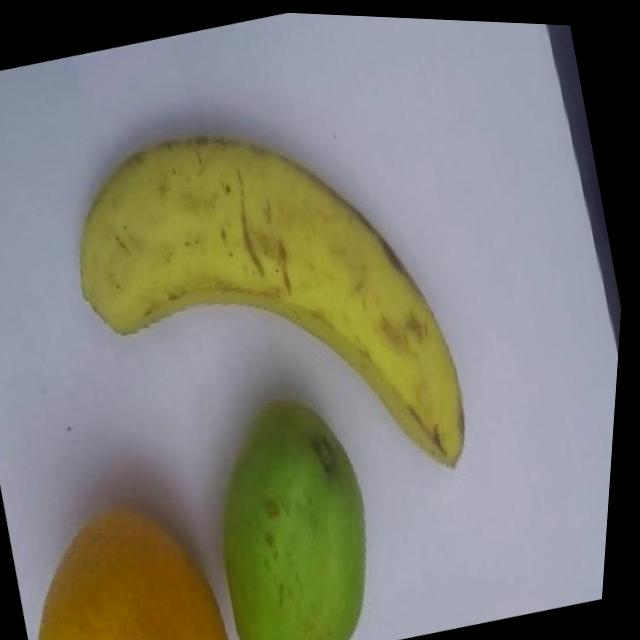Banana: (39, 73, 500, 545)
Orange: (9, 481, 253, 640)
